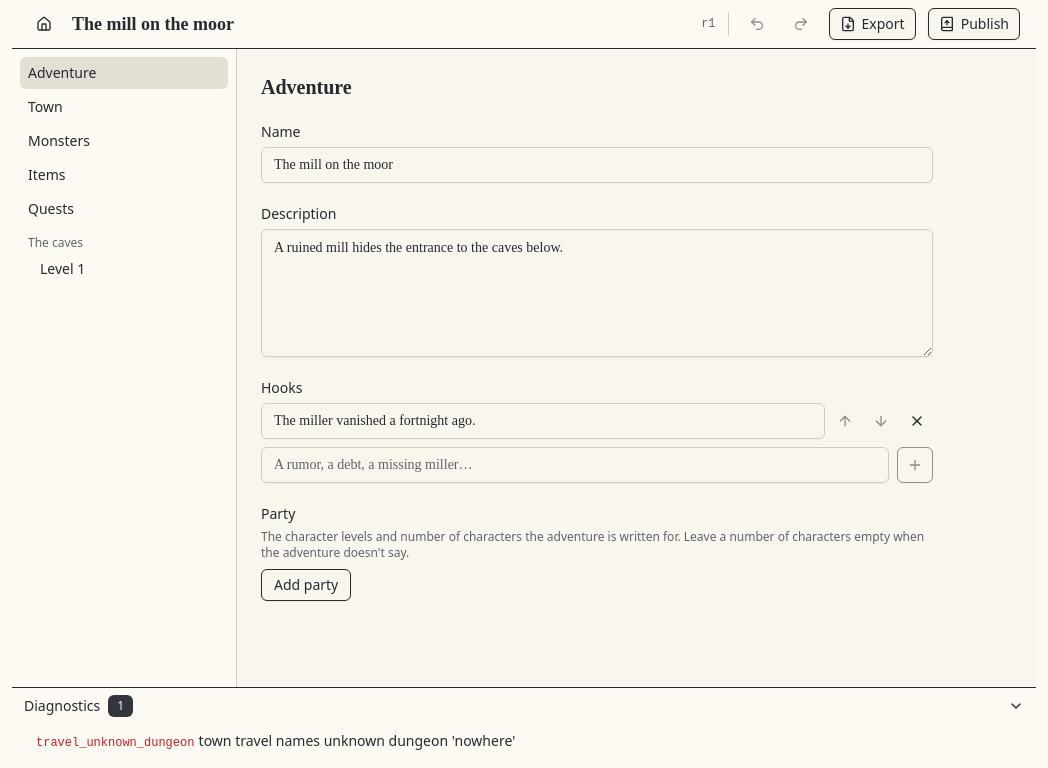
Test case: a diagnostics finding navigates by its address
Check: the text with test id "diagnostics-count" reads "1", box [117,697,124,714]
Click the button "town travel names unknown dungeon".
click(115, 743)  # box [28,724,1020,756]
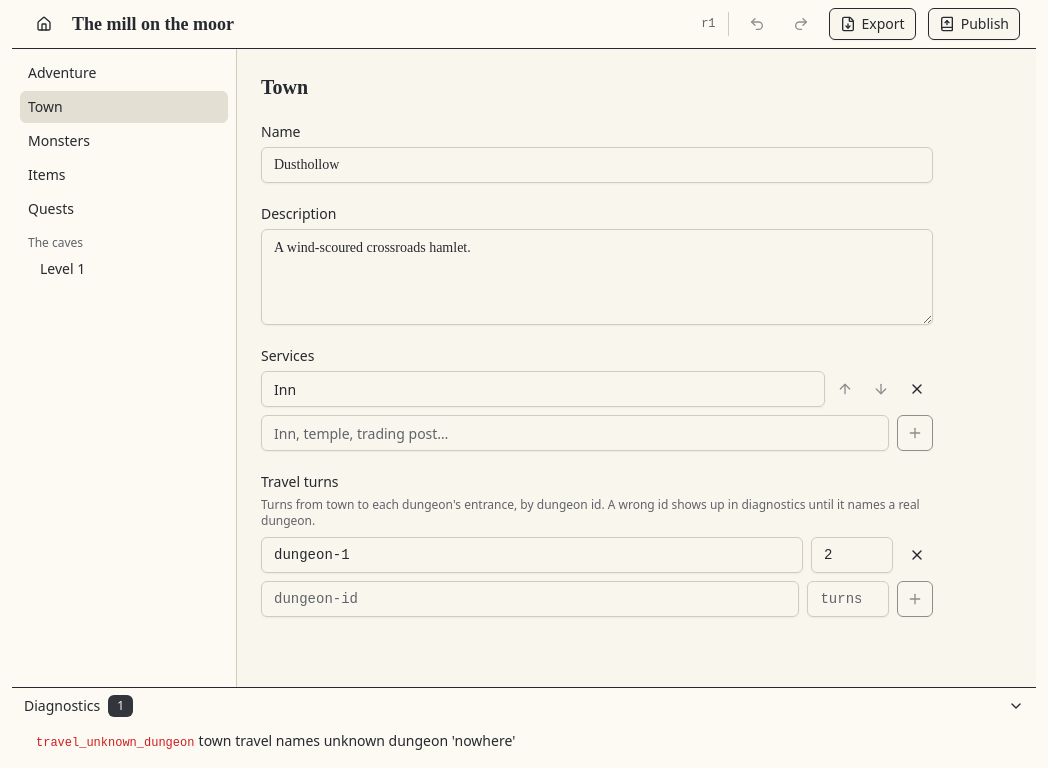
Check: the heading "Town" is shown, box [261,76,308,98]
Check: the field labelled "Name" holds "Dusthollow", box [261,147,933,183]
